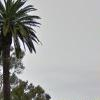Palm tree: (2, 4, 39, 98)
